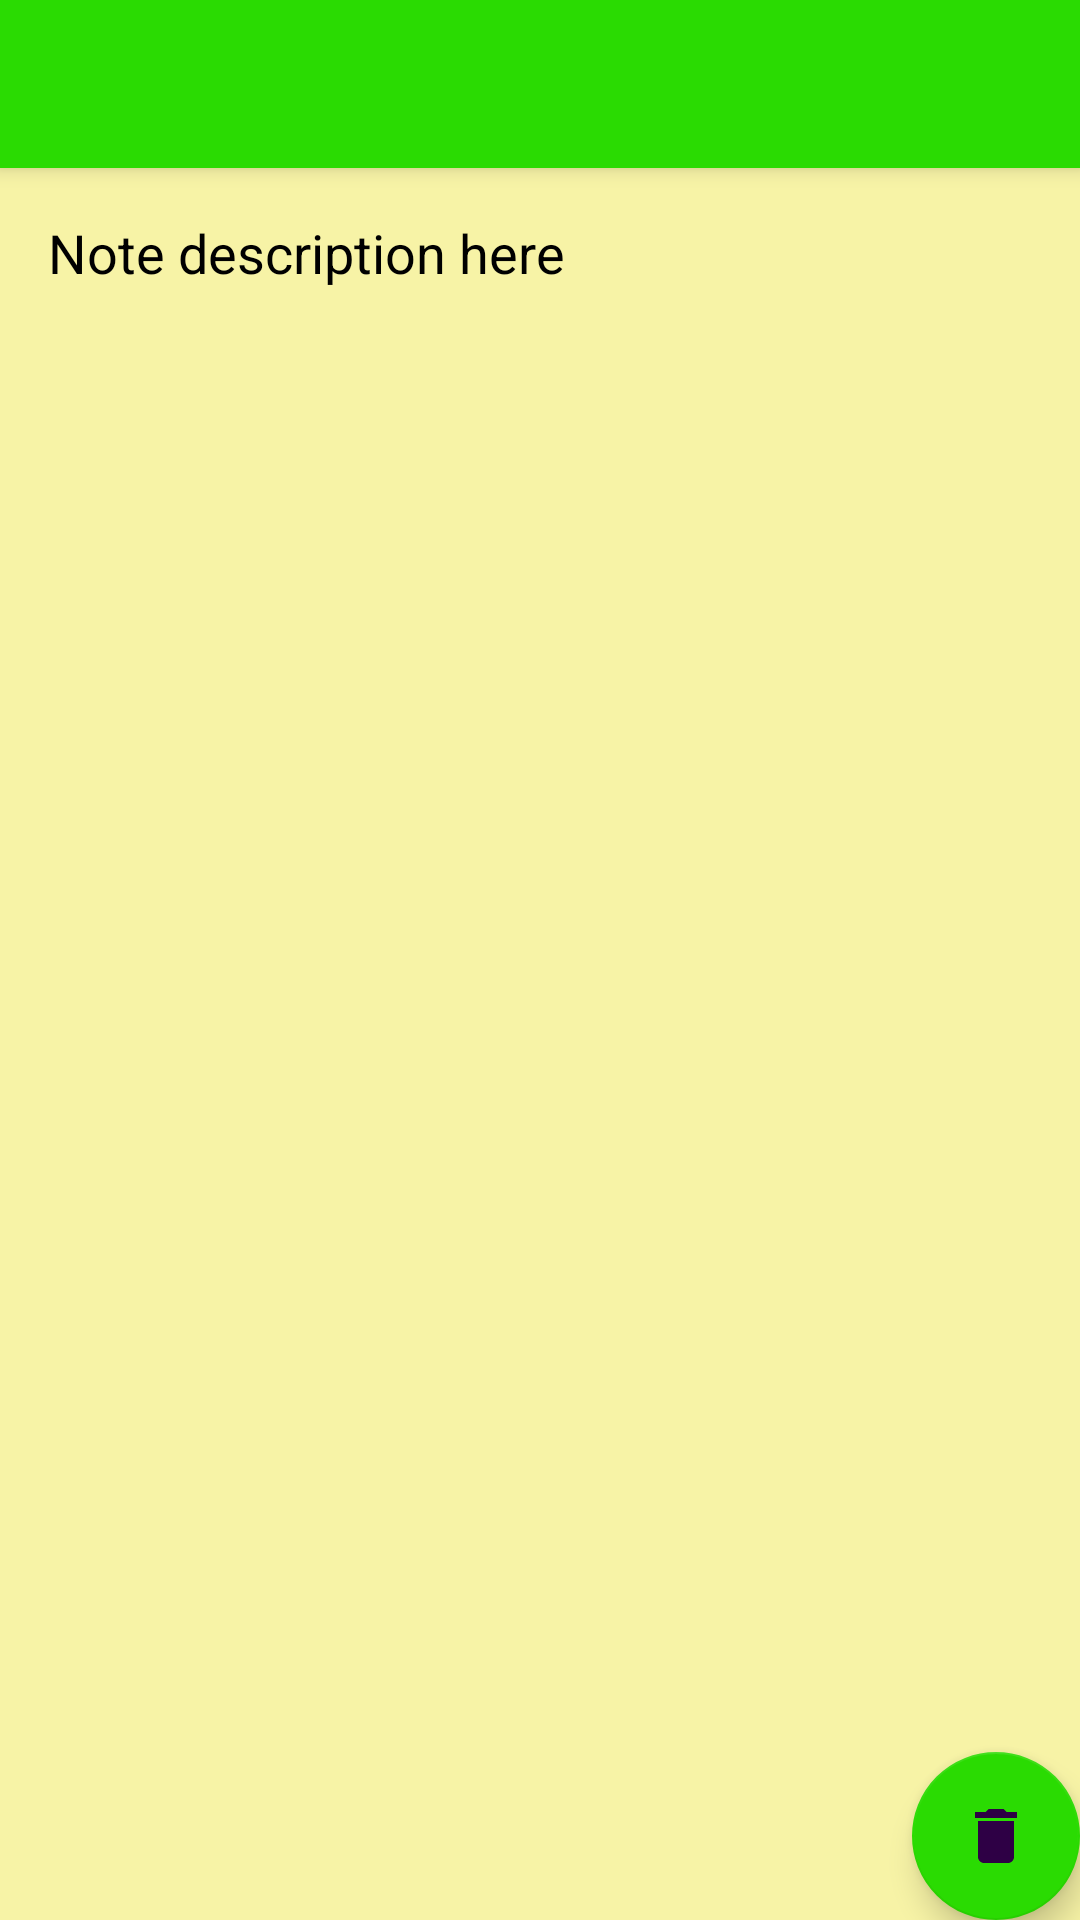

Icons on this 1080px x 1920px Android screen, each with the point to tap as (x=x, y=y):
delete: (x=996, y=1836)
